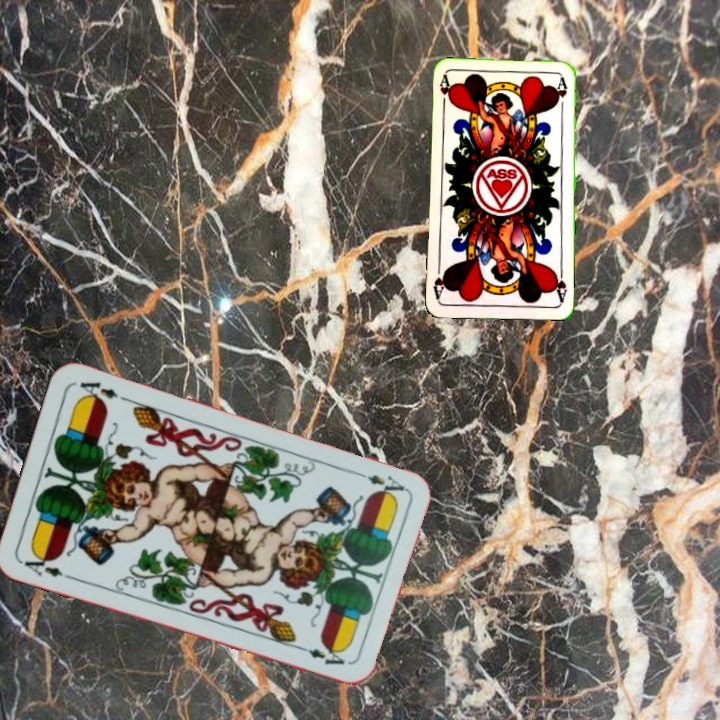EA: (17, 550, 75, 582), (350, 466, 408, 496)
HA: (550, 263, 569, 304), (435, 72, 452, 113)
